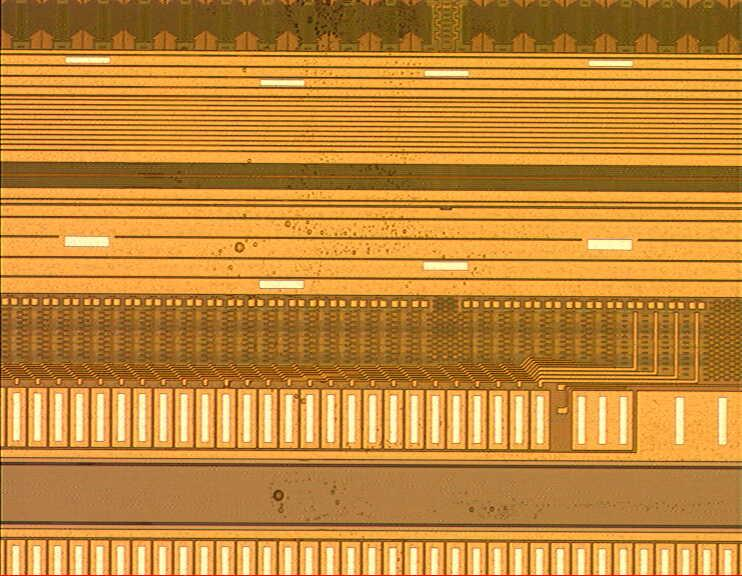PO CONTAMINATION: (203, 1, 740, 528)
